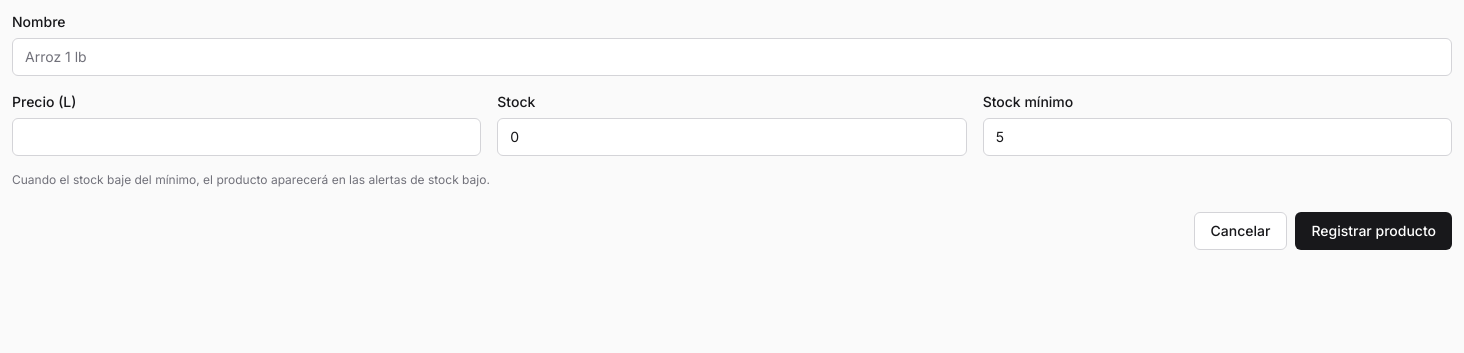
Test: ProductoForm › usa valores por defecto al crear y muestra errores por campo
Expected: the number field labelled "Stock" holds "0", [497,118,967,156]
Expected: the number field labelled "Stock mínimo" holds "5", [983,118,1452,156]
In the field labelled "Nombre": (732, 57) [12,38,1452,76], type "Arroz 1lb"
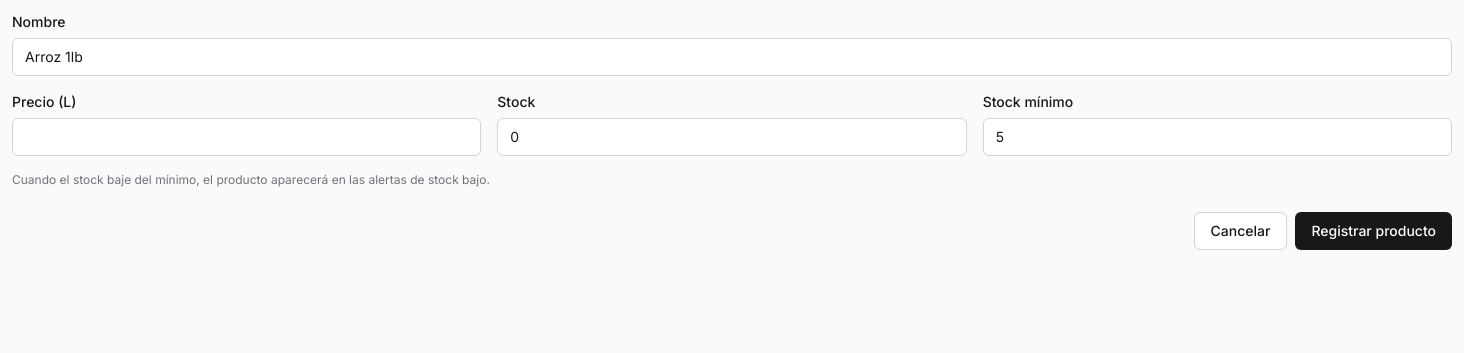
In the number field labelled "Precio (L)": (247, 137) [12,118,481,156], type "-3"
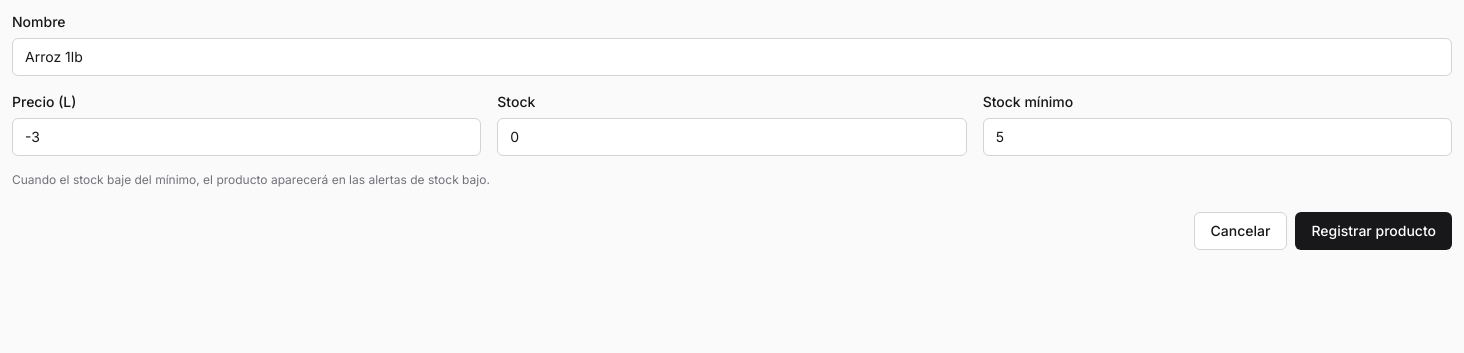
Click the button "Registrar producto": (1374, 231) [1295,212,1452,250]
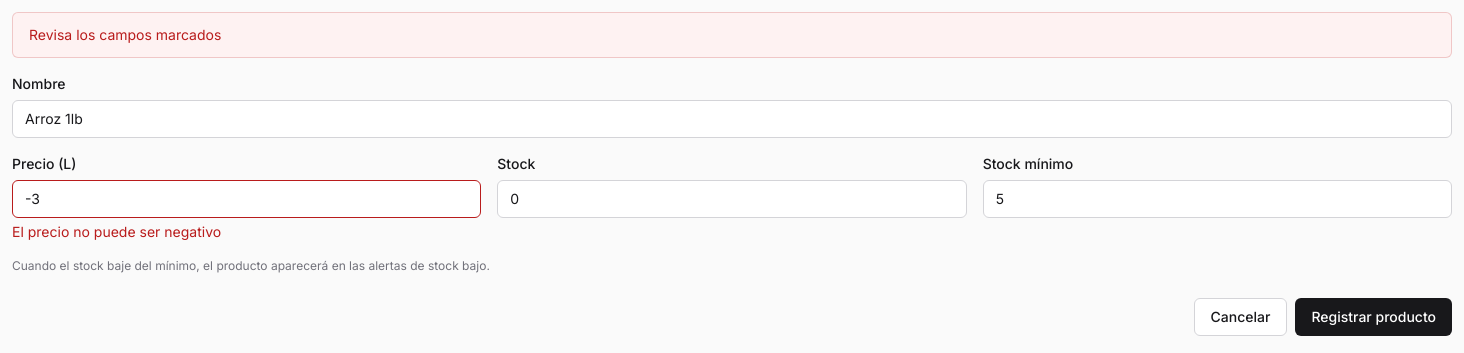
Result: the text "El precio no puede ser negativo" is shown at [12,223,221,240]
